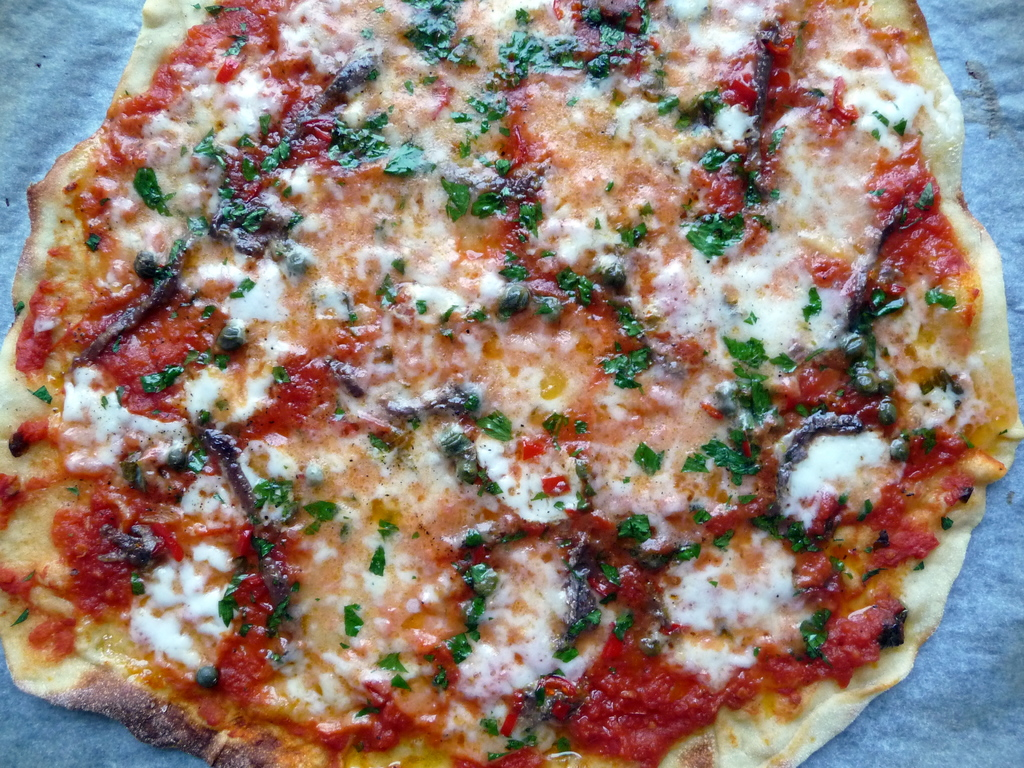Pizza: (0, 0, 1023, 766)
